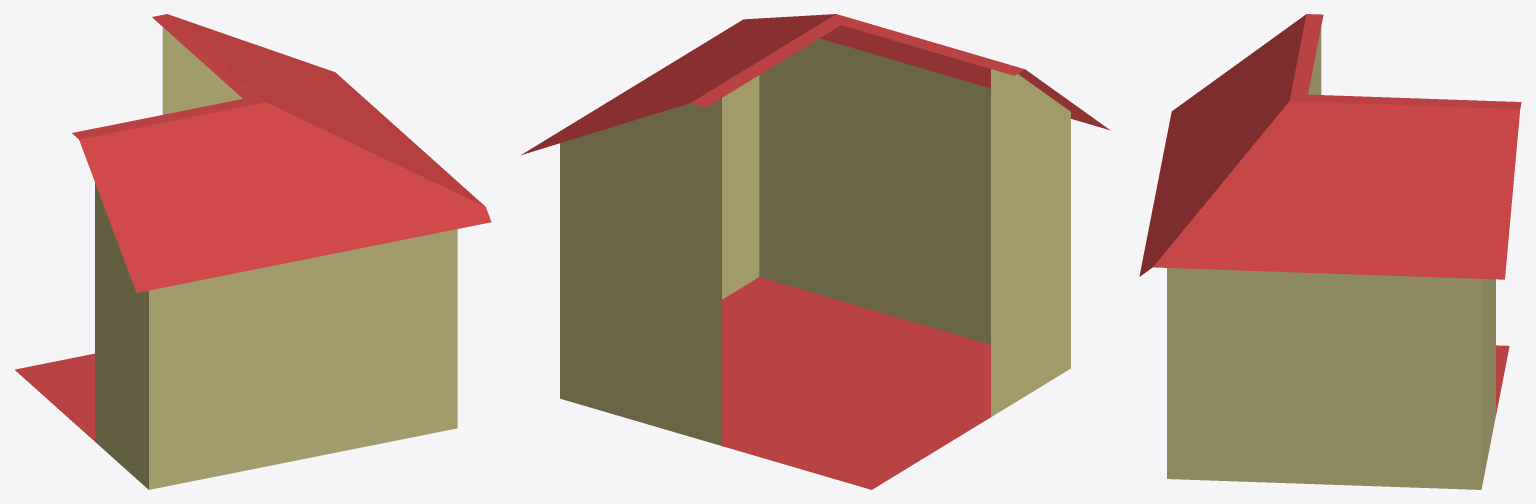
3 views of the same model, side by side, from view 1: azimuth 30°, elevation 25°; view 2: azimuth 150°, elevation 25°; view 3: azimuth 270°, elevation 25° (orthographic). The views are drawn at different scales.
Bounding box in the file's own units: 12.35 × 11.18 × 10.13.
